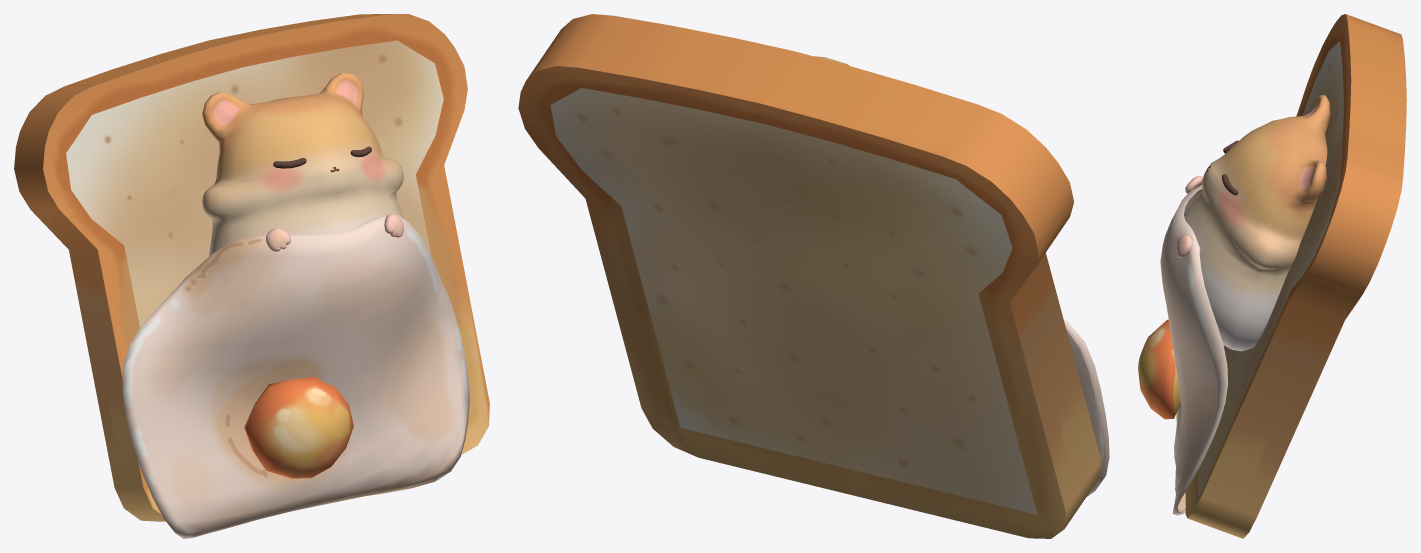
The model's file is hamster.glb.
3 views of the same model, side by side, from view 1: azimuth 30°, elevation 25°; view 2: azimuth 150°, elevation 25°; view 3: azimuth 270°, elevation 25° (orthographic). The views are drawn at different scales.
Visible parts, largest first — view 1: Pan, Huevo, Hamster, Yema; view 2: Pan, Huevo; view 3: Pan, Hamster, Huevo, Yema.
Part boxes in pixels (bbox=[...]): Pan: bbox=[14, 14, 489, 521]; Huevo: bbox=[122, 214, 469, 538]; Hamster: bbox=[202, 73, 403, 256]; Yema: bbox=[244, 377, 353, 478]; Pan: bbox=[518, 14, 1100, 538]; Huevo: bbox=[1063, 318, 1109, 496]; Pan: bbox=[1185, 14, 1406, 538]; Hamster: bbox=[1184, 95, 1330, 351]; Huevo: bbox=[1160, 184, 1227, 515]; Yema: bbox=[1138, 319, 1180, 419].
Bounding box in the file's own units: 2.09 × 1.96 × 1.2.
7 materials, 7 textured.
